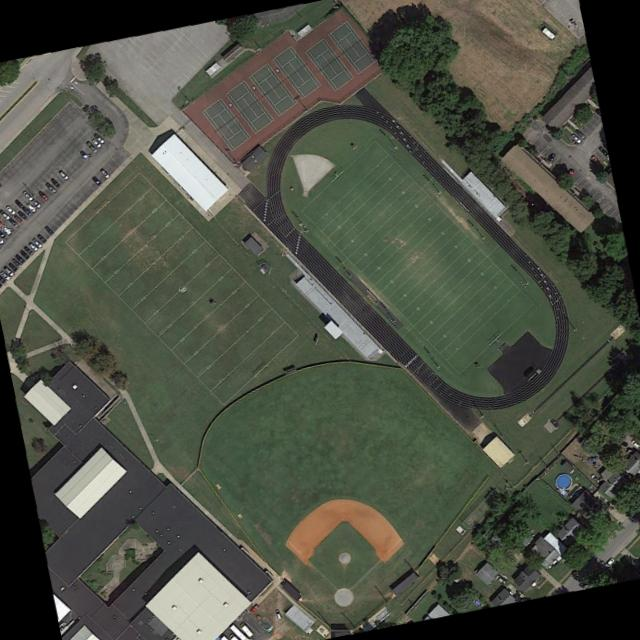small-vehicle: (85, 140, 99, 154), (0, 223, 13, 236), (44, 181, 56, 194), (604, 556, 616, 568), (249, 603, 260, 615), (570, 132, 582, 143), (0, 209, 11, 221), (17, 210, 29, 221), (37, 190, 49, 201), (3, 266, 15, 277), (58, 170, 70, 181), (100, 168, 111, 179), (495, 574, 506, 585), (590, 473, 601, 484), (8, 217, 19, 228), (26, 202, 37, 213), (31, 198, 42, 209), (50, 177, 61, 188), (14, 253, 25, 264), (590, 155, 601, 165), (44, 225, 55, 235), (92, 175, 102, 186), (630, 438, 640, 449), (565, 168, 575, 179), (33, 238, 43, 249), (546, 152, 556, 163), (575, 129, 586, 139), (37, 233, 47, 244), (21, 204, 31, 215), (5, 205, 16, 215), (13, 214, 24, 224), (24, 245, 34, 256), (22, 191, 33, 201), (0, 270, 11, 280), (8, 261, 18, 272), (12, 257, 22, 268), (19, 249, 30, 259), (92, 138, 102, 148), (14, 198, 23, 209), (0, 228, 8, 240), (29, 241, 38, 251), (274, 609, 282, 620), (587, 456, 599, 462), (0, 274, 7, 284), (96, 136, 104, 144), (0, 236, 5, 246), (0, 219, 4, 226)
